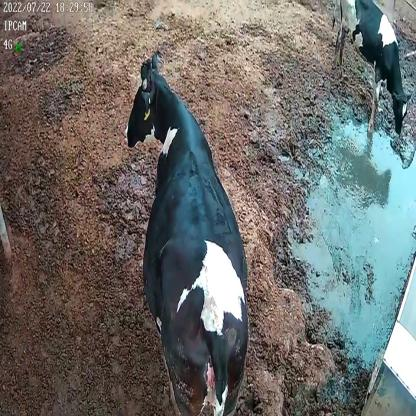cow: (123, 48, 250, 416), (331, 0, 411, 136)
